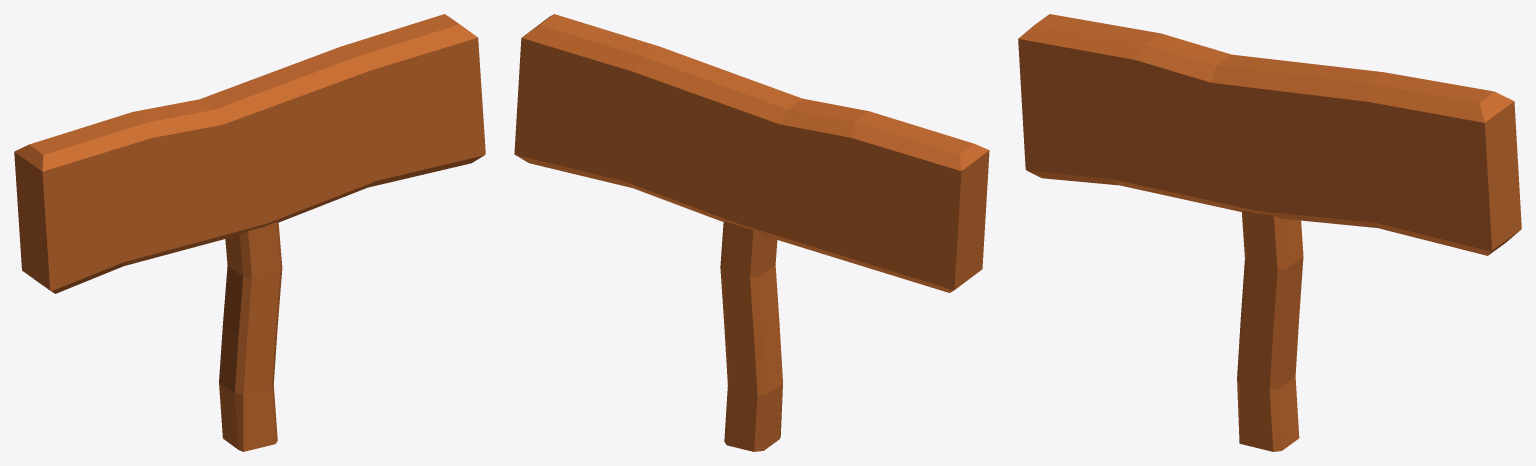
File: Sign.fbx
The picture shows the model from 3 angles, left to right: view 1: azimuth 30°, elevation 25°; view 2: azimuth 150°, elevation 25°; view 3: azimuth 330°, elevation 25°; orthographic projection. The views are drawn at different scales.
Visible parts, largest first — view 1: Sign, Pole; view 2: Sign, Pole; view 3: Sign, Pole.
Part boxes in pixels (x1,y1,x2,y2): Sign: [14, 14, 485, 293]; Pole: [219, 222, 282, 451]; Sign: [514, 14, 989, 292]; Pole: [720, 221, 782, 451]; Sign: [1018, 14, 1521, 255]; Pole: [1237, 210, 1303, 451].
Bounding box in the file's own units: 3655 × 2911 × 421.
